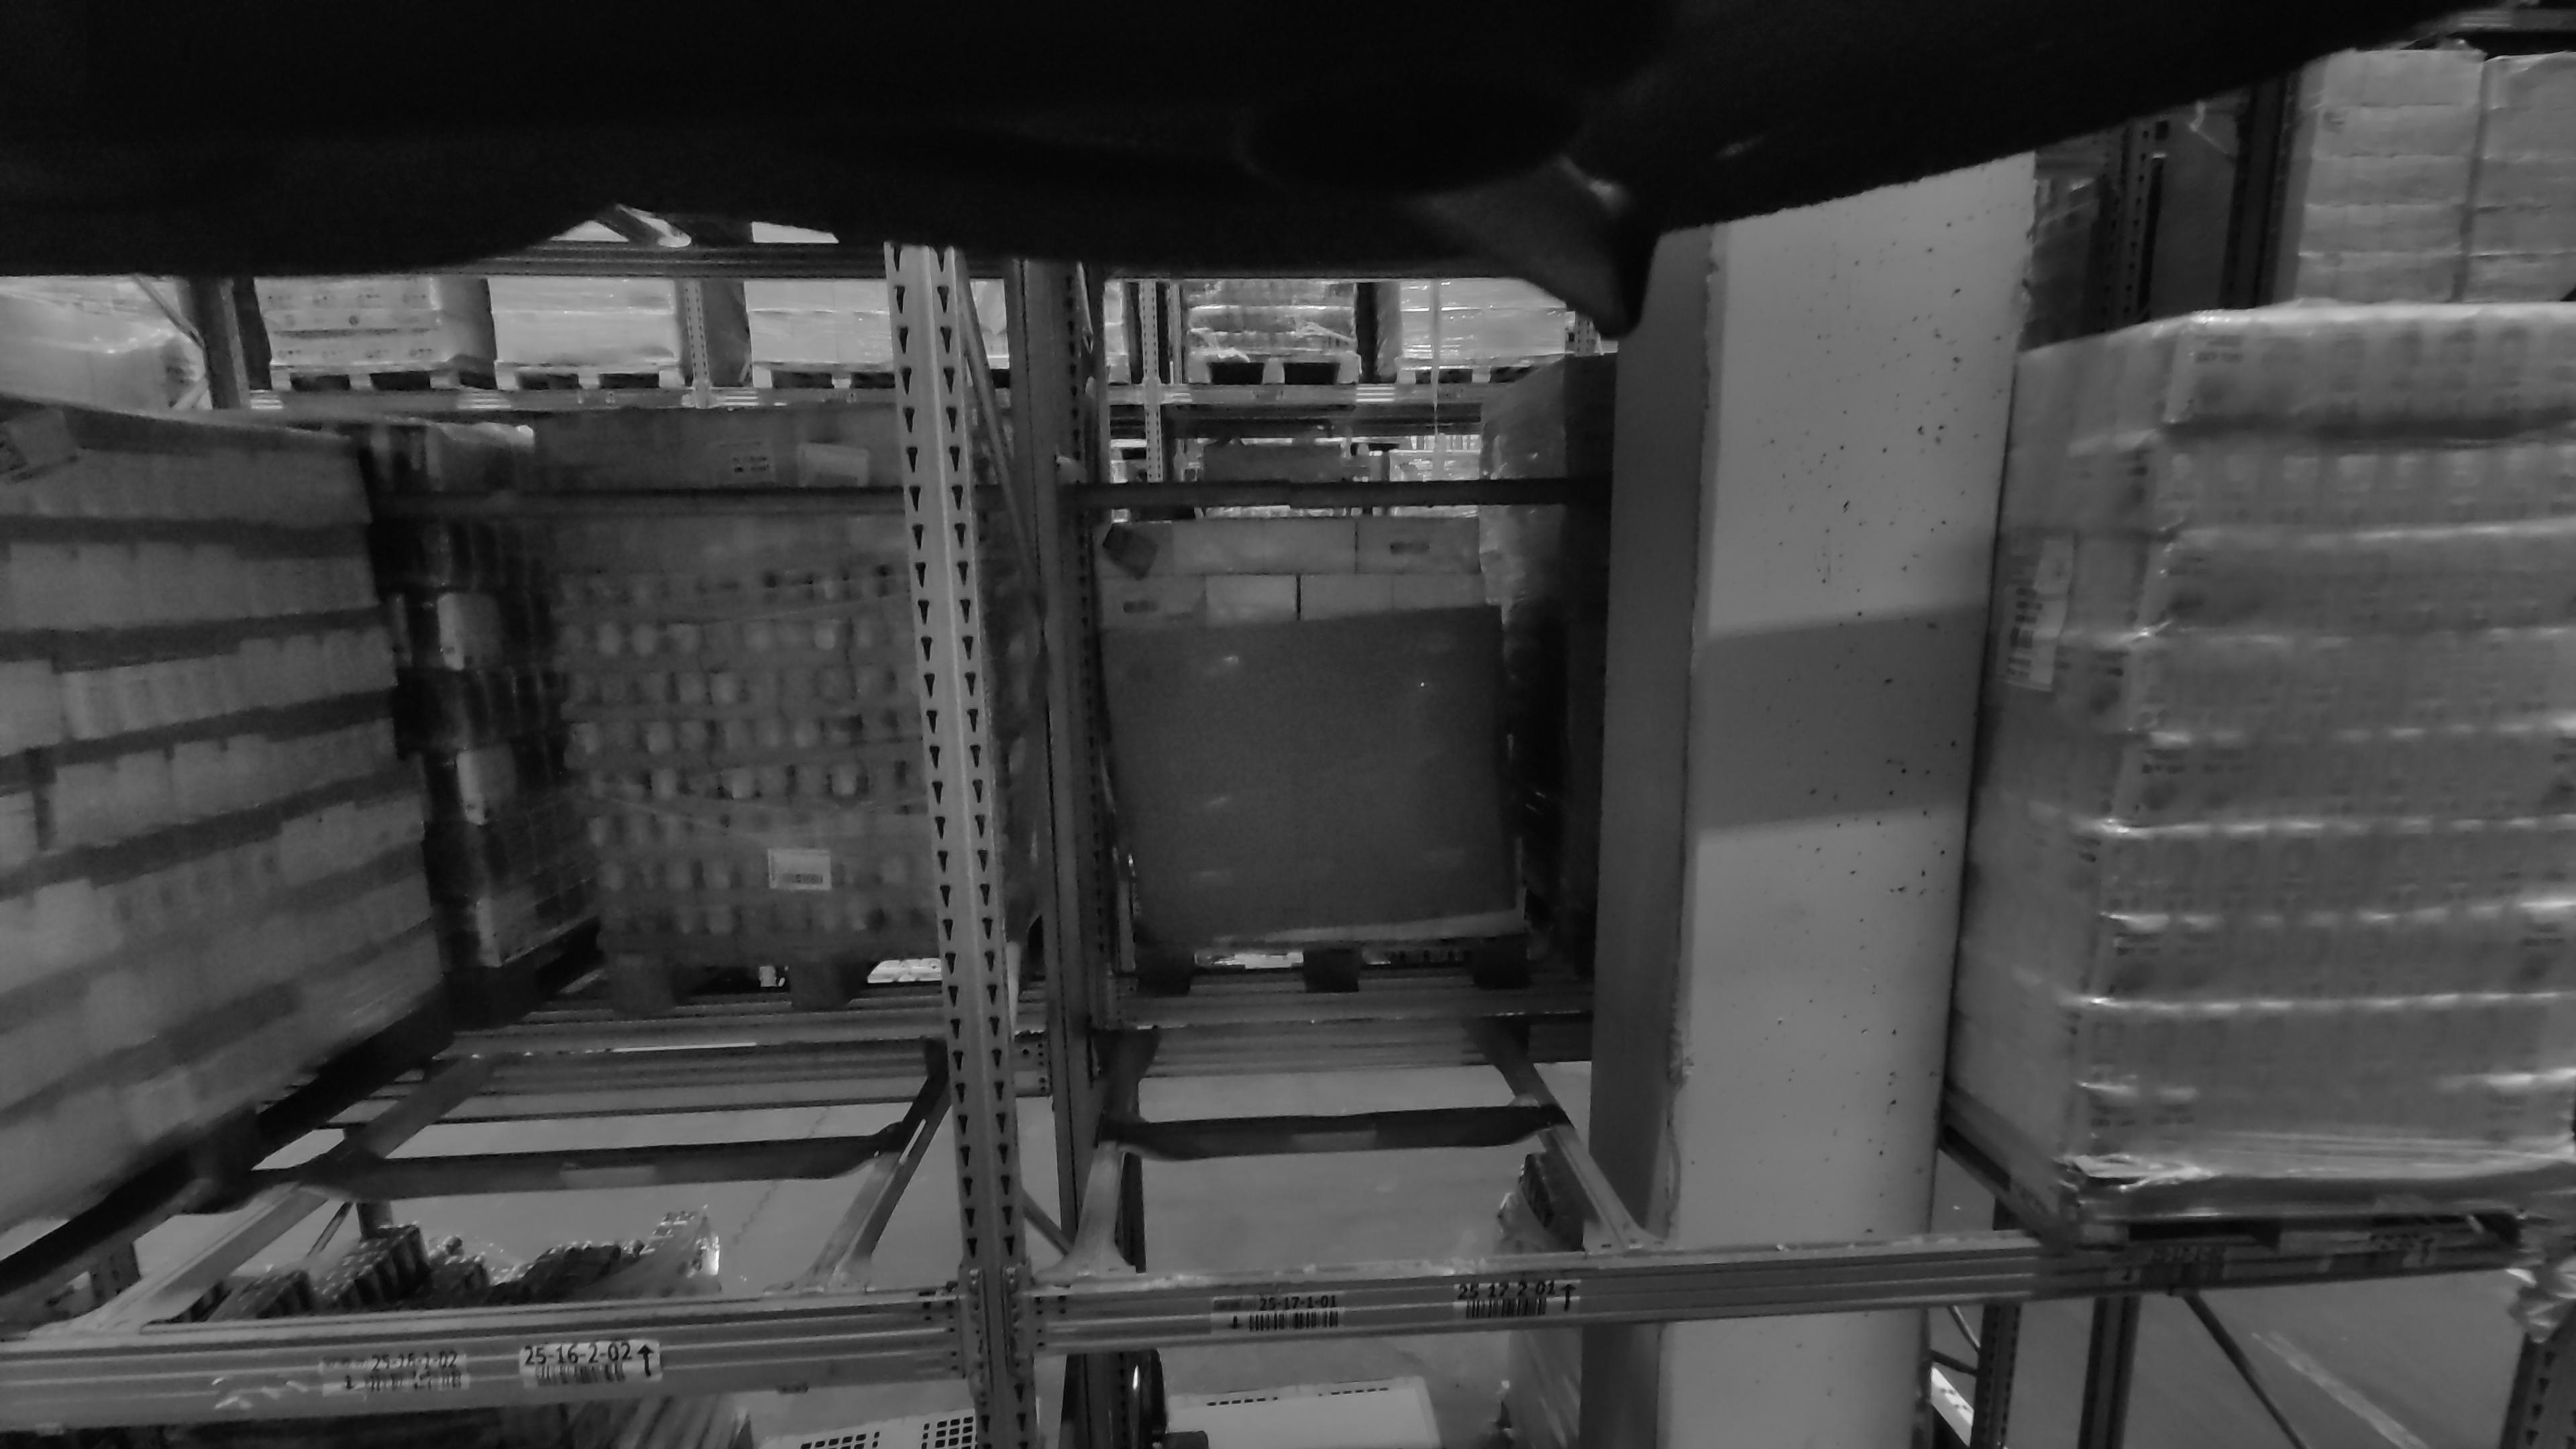empty-shelf: (304, 188, 839, 1293), (1093, 209, 1619, 1279)
